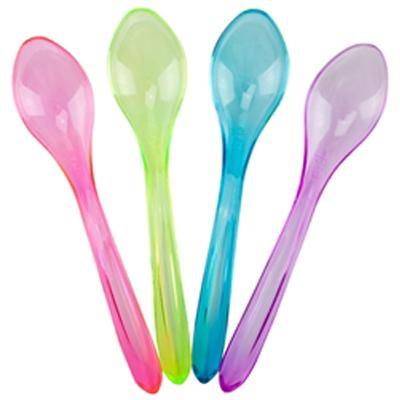Spoon: (219, 43, 388, 393), (11, 35, 162, 395), (192, 8, 290, 384), (107, 7, 191, 385)
